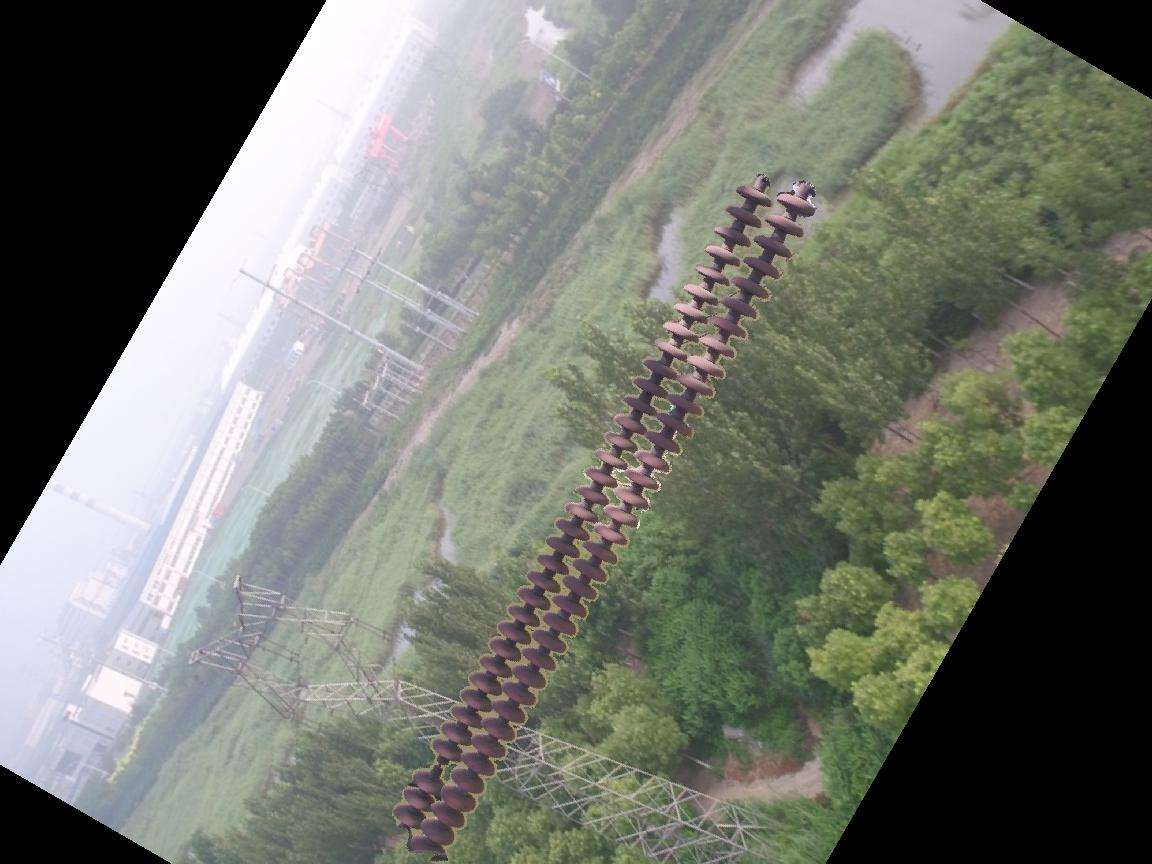insulator: (389, 174, 821, 848)
insulator_stringdrop: (409, 736, 467, 796)
